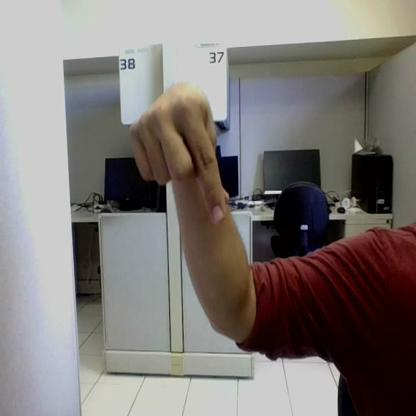Q: (129, 103, 228, 225)
